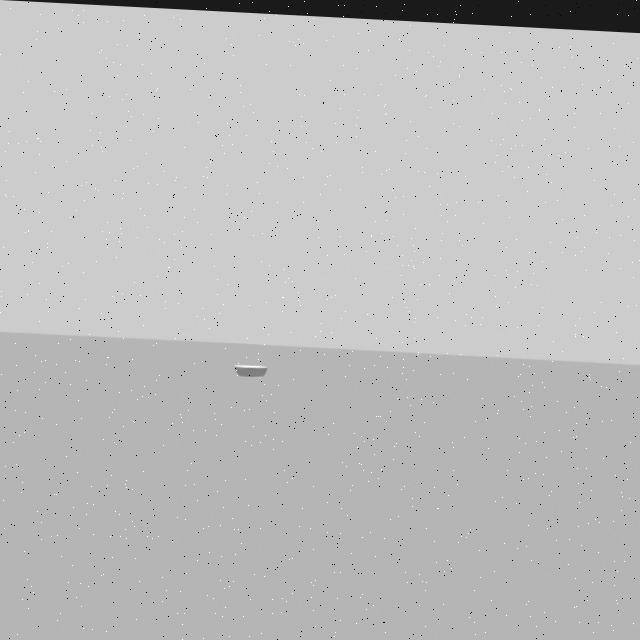bowl: (230, 356, 268, 372)
